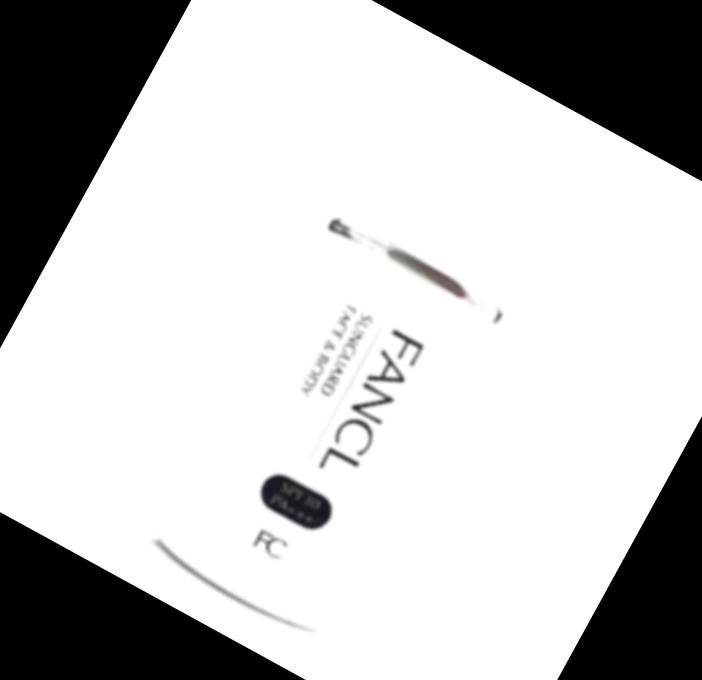cosmetic: (139, 103, 575, 651)
